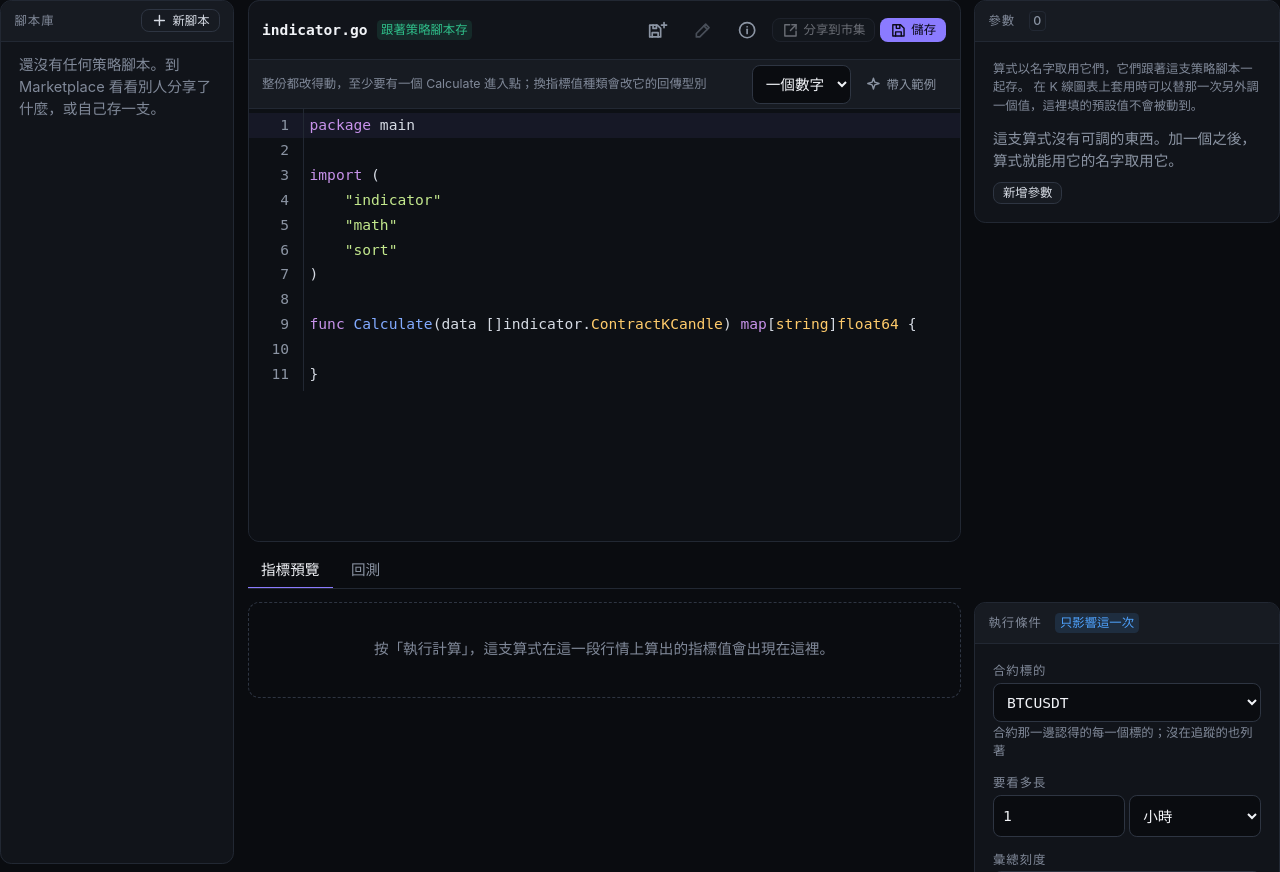
合約策略腳本的工作區 › 改成信號時，進入點仍收合約行情格
The width and height of the screenshot is (1280, 872).
Select "一個信號" in the dropdown with test id "result-type-select" at coordinates (801, 84), box [752, 65, 851, 104]
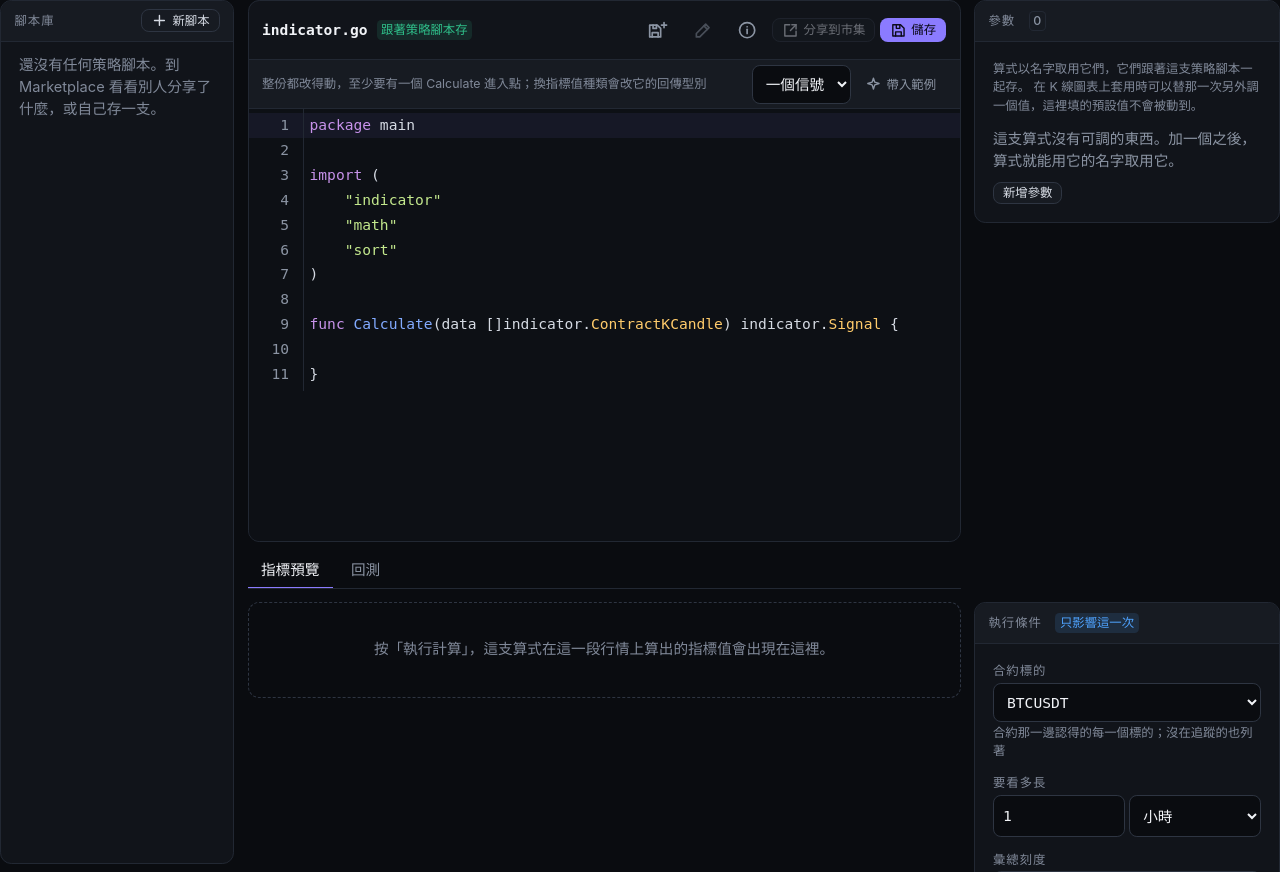
expect the field with class "cm-content" shows "func Calculate(data []indicator.ContractKCandle) indicator.Signal {": met, box [304, 109, 960, 391]
